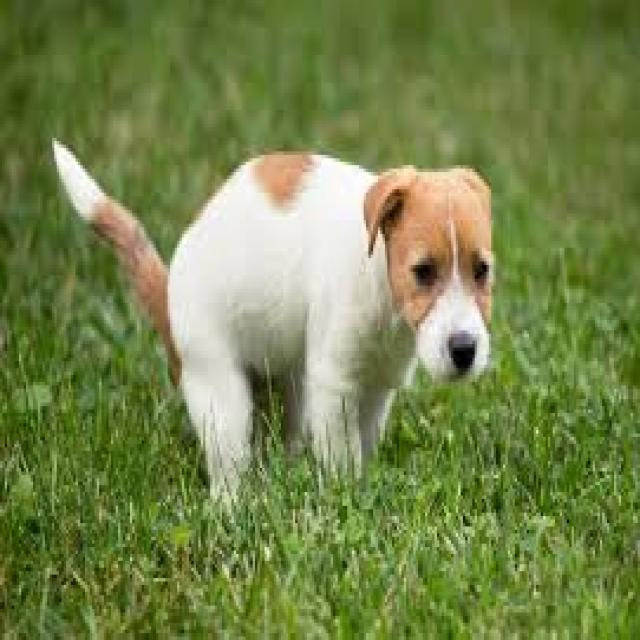Dogpoop: (52, 128, 491, 479)
